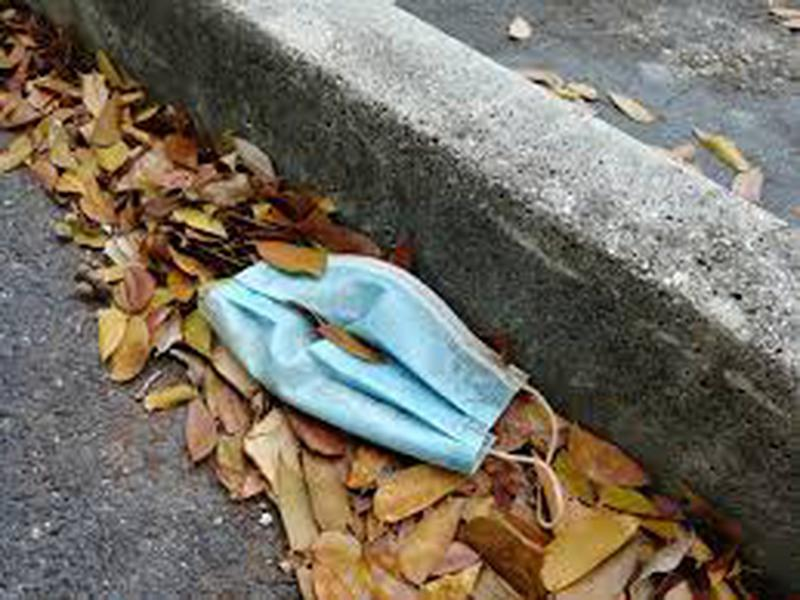leaf: (539, 504, 639, 589), (394, 498, 470, 587), (367, 465, 466, 523), (243, 231, 331, 280), (182, 397, 221, 464), (91, 304, 127, 366)
mask: (185, 252, 571, 529)
